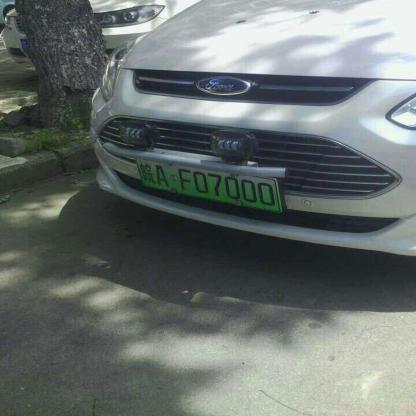lp: (135, 158, 280, 211)
